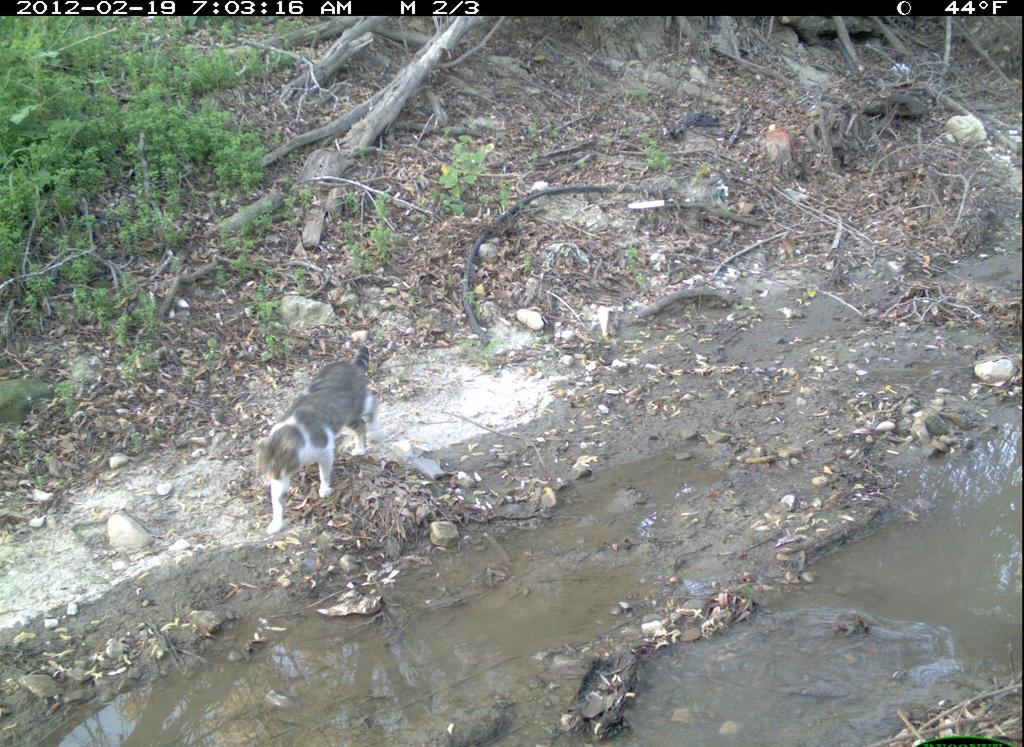cat: (250, 327, 388, 541)
